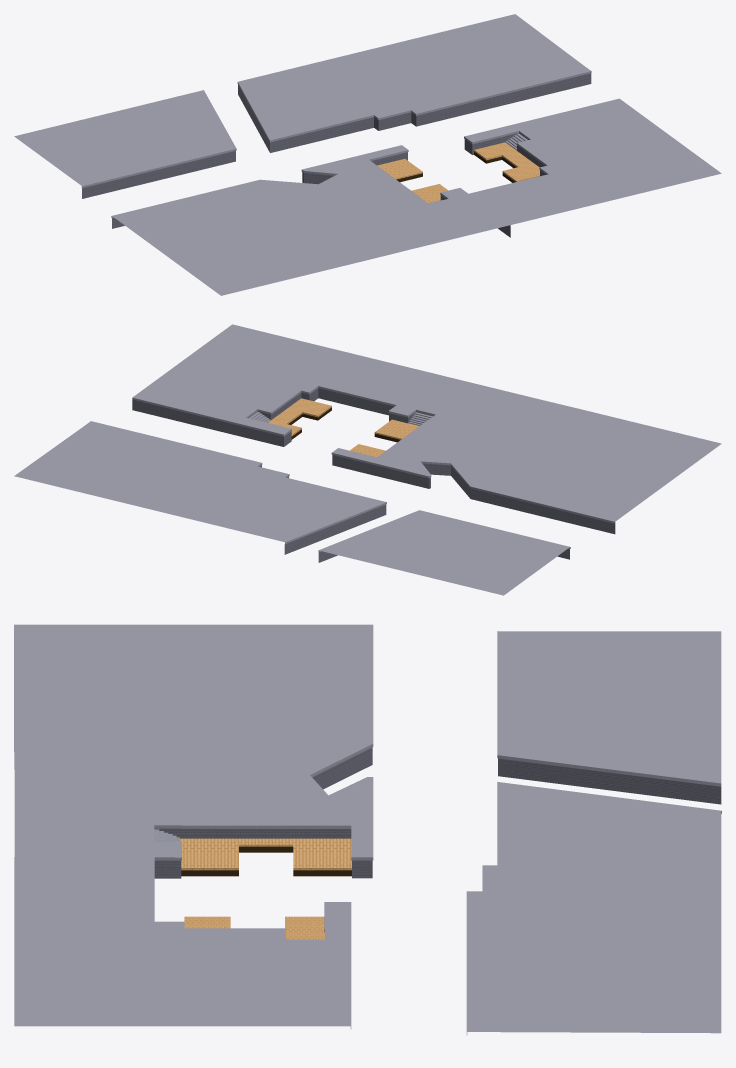
File: Terrain_L1.fbx
3 renders of one model, top to bottom at view 1: azimuth 30°, elevation 25°; view 2: azimuth 150°, elevation 25°; view 3: azimuth 270°, elevation 25°, orthographic. The views are drawn at different scales.
Visible parts, largest first — view 1: Shipyard; view 2: Shipyard; view 3: Shipyard.
Part boxes in pixels (x1,y1,x2,y2): Shipyard: (14,14,721,295); Shipyard: (14,324,721,595); Shipyard: (14,624,721,1035).
Bounding box in the file's own units: 315632 × 7690 × 231062.
Materials: 7 (5 with a texture image).
